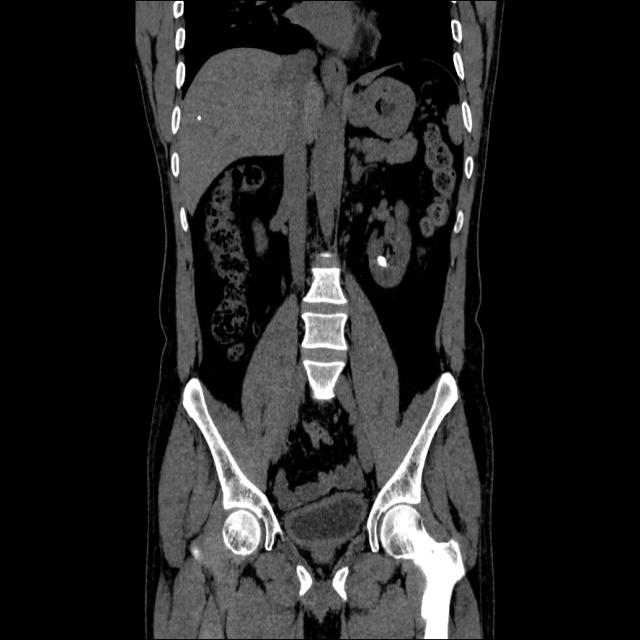kidneystone: (378, 255, 386, 267)
